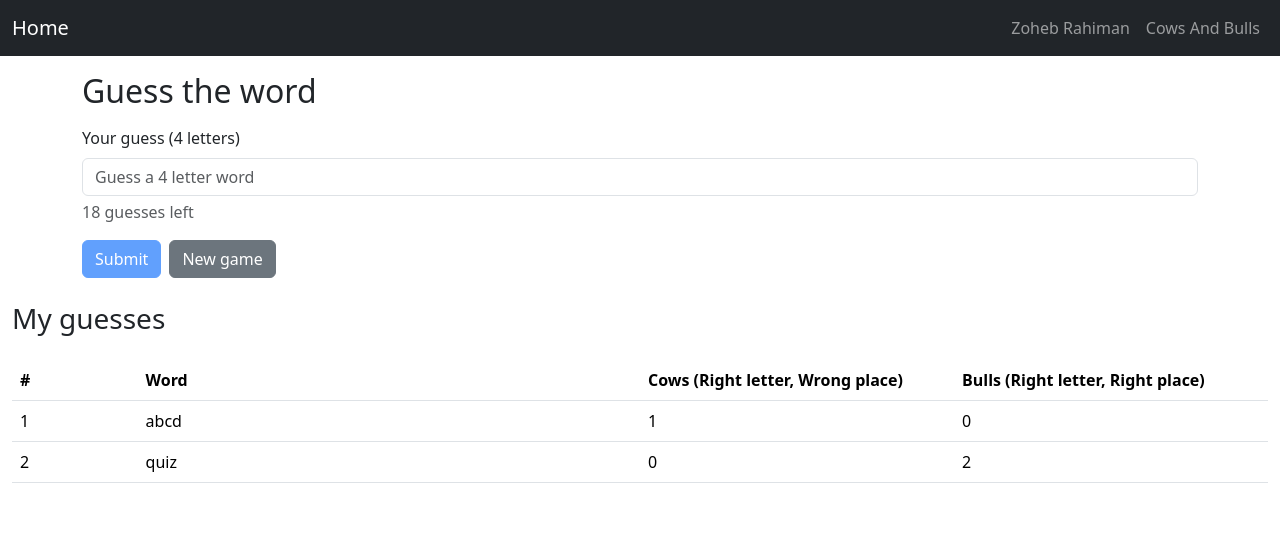
Test case: submitting a guess › posts to this game and renders the updated game it returns, without refetching
Type "gold" into the field labelled "Your guess (4 letters)" at (640, 177), box [82,158,1198,196]
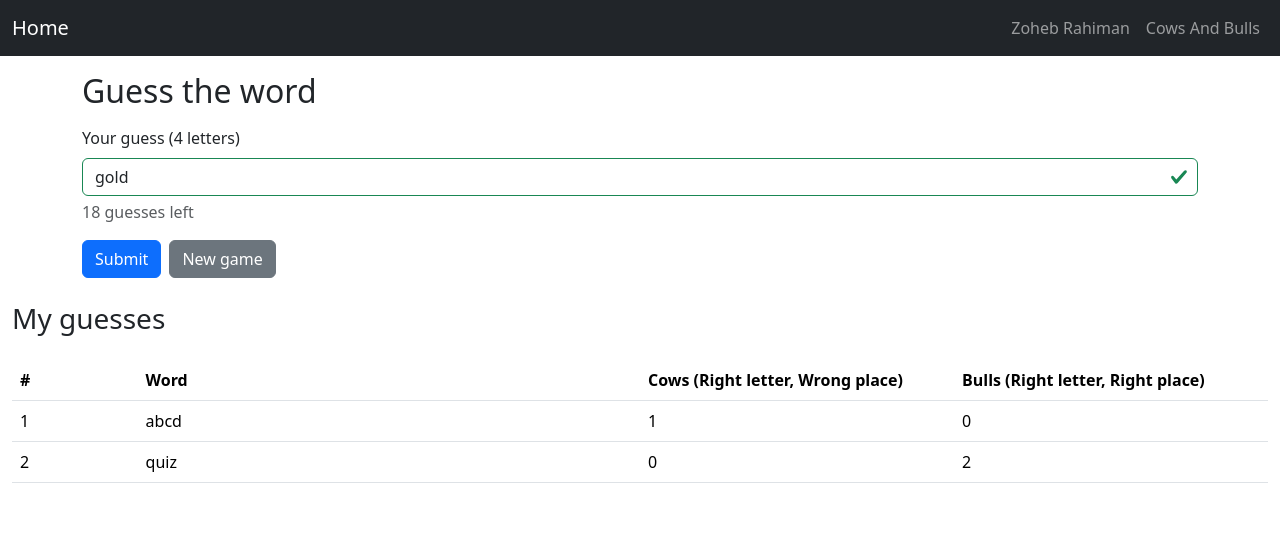
Click the button "Submit" at (122, 259), box [82,240,161,278]
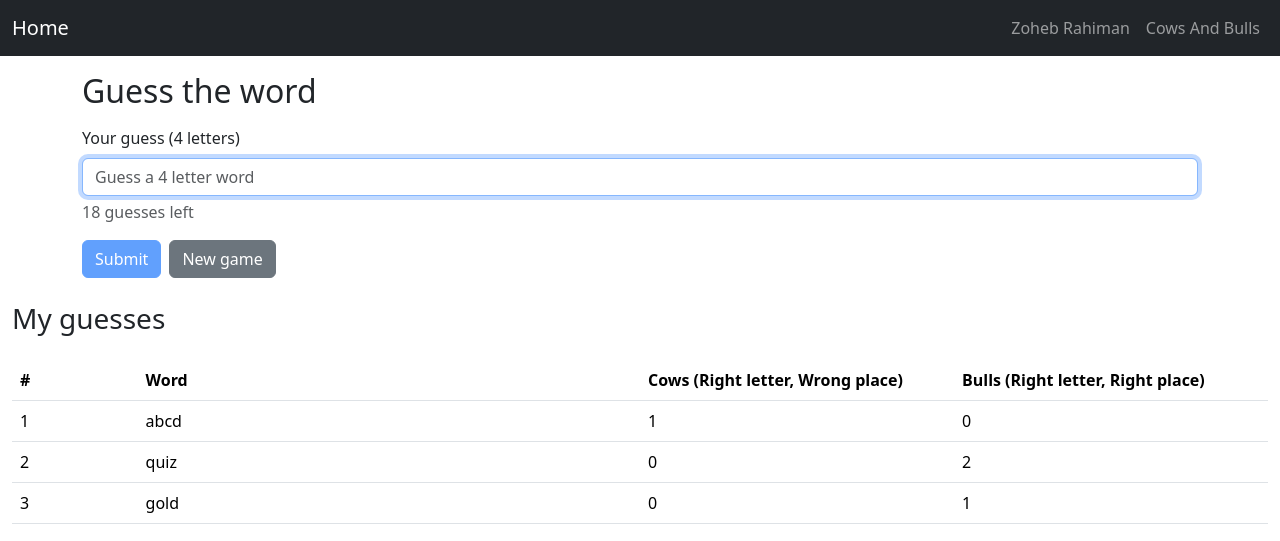
Expected: the number of rows is 4, [12,360,1268,400]; [12,400,1268,442]; [12,442,1268,482]; [12,482,1268,524]
Expected: the field labelled "Your guess (4 letters)" is empty, [82,158,1198,196]
